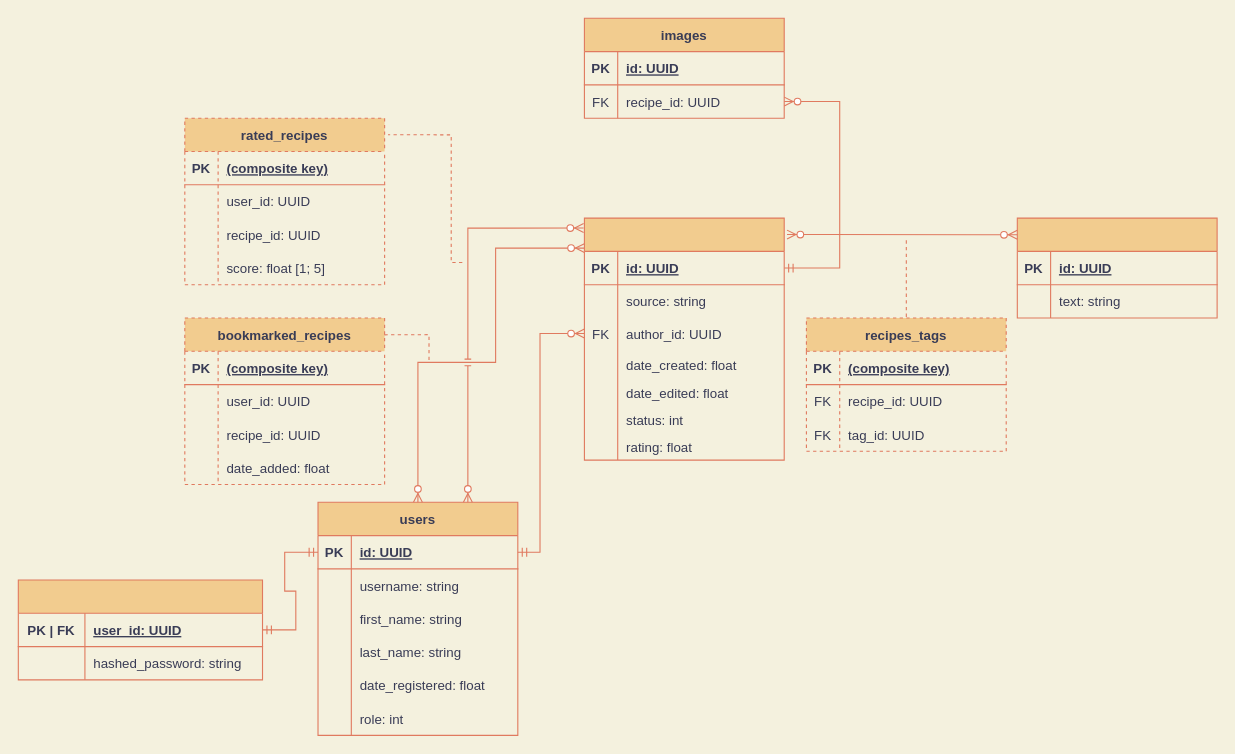
Image size: 1235x754. Some labels were removed from this diagram. Each missing label, with the box of its shape:
recipes: (583, 217, 784, 460)
tags: (1016, 217, 1217, 318)
user_password: (17, 579, 263, 680)
